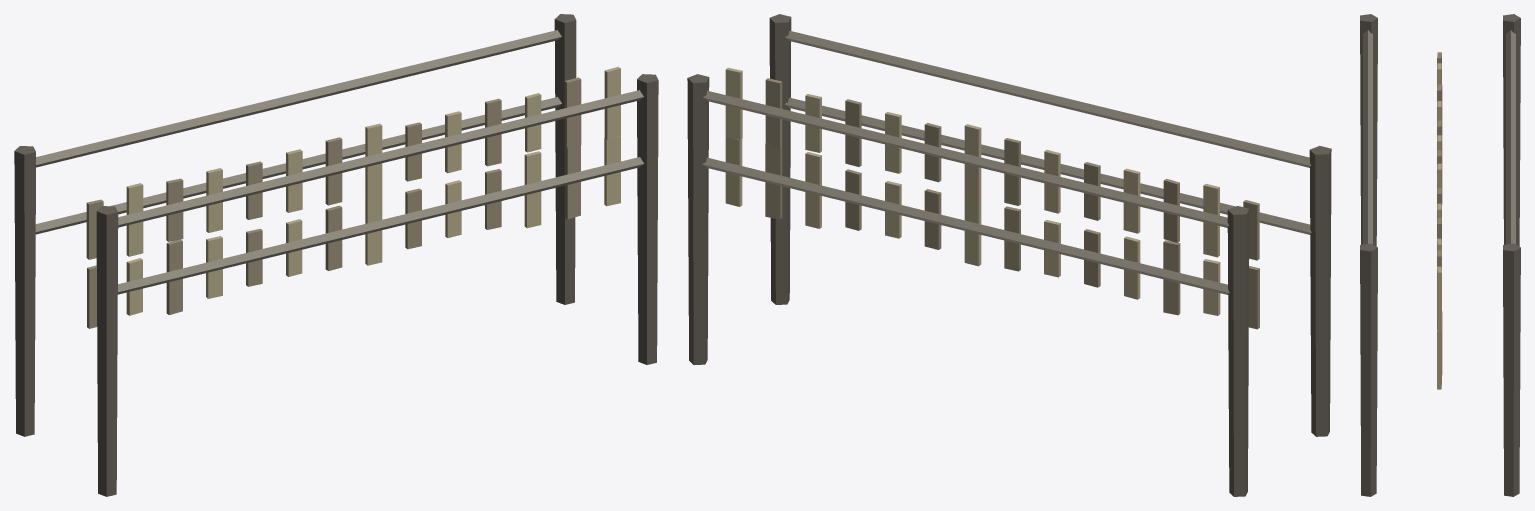
The model's file is a3h_fish_rack.glb.
3 renders of one model, left to right at view 1: azimuth 30°, elevation 25°; view 2: azimuth 150°, elevation 25°; view 3: azimuth 270°, elevation 25°, orthographic. The views are drawn at different scales.
Visible parts, largest first — view 1: a3h_fish_rack; view 2: a3h_fish_rack; view 3: a3h_fish_rack.
Part boxes in pixels (bbox=[...]): a3h_fish_rack: bbox=[14, 14, 658, 496]; a3h_fish_rack: bbox=[687, 14, 1331, 496]; a3h_fish_rack: bbox=[1360, 14, 1520, 496].
Size of the model in its own units: 3.96 by 1.9 by 1.13.
